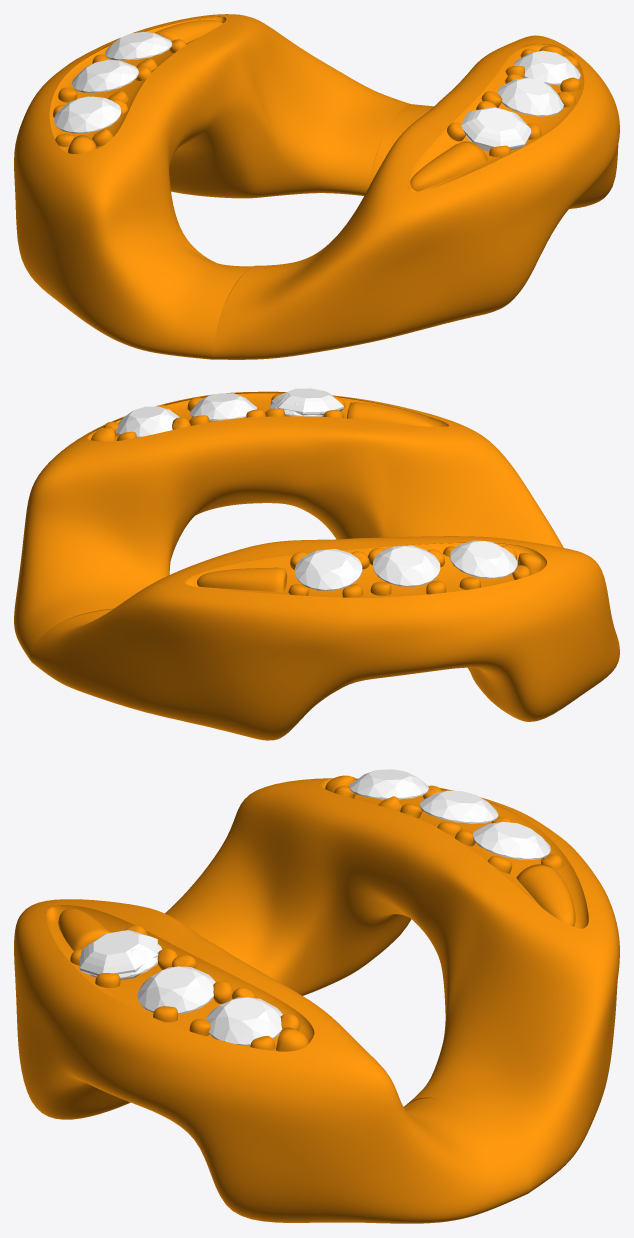
3 renders of one model, top to bottom at view 1: azimuth 30°, elevation 25°; view 2: azimuth 150°, elevation 25°; view 3: azimuth 270°, elevation 25°, orthographic. The views are drawn at different scales.
Parts seen in each view (by area): view 1: sm_cubanLink_gold_a1, sm_cubanLink_gold_b1, Diamond_Octagon.007, Cube.013, Diamond_Octagon.001, file2.004, Diamond_Octagon.002, file2.005, Diamond_Octagon.003, Cube; view 2: sm_cubanLink_gold_a1, sm_cubanLink_gold_b1, Diamond_Octagon.003, Diamond_Octagon.002, Cube, Diamond_Octagon.001, Cube.013, Diamond_Octagon.007, file2.005, file2.004; view 3: sm_cubanLink_gold_a1, sm_cubanLink_gold_b1, file2.005, file2.004, Diamond_Octagon.007, Cube, Diamond_Octagon.003, Cube.013, Diamond_Octagon.002, Diamond_Octagon.001.
Boxes of the visible parts, x1,y1,x2,y2 form: sm_cubanLink_gold_a1: (14, 14, 410, 359); sm_cubanLink_gold_b1: (212, 35, 619, 359); Diamond_Octagon.007: (461, 107, 531, 151); Cube.013: (410, 45, 564, 191); Diamond_Octagon.001: (54, 96, 121, 133); file2.004: (497, 78, 563, 116); Diamond_Octagon.002: (72, 60, 138, 92); file2.005: (513, 50, 580, 85); Diamond_Octagon.003: (105, 31, 172, 60); Cube: (68, 20, 223, 153); sm_cubanLink_gold_a1: (30, 536, 619, 740); sm_cubanLink_gold_b1: (14, 391, 563, 660); Diamond_Octagon.003: (294, 549, 362, 590); Diamond_Octagon.002: (372, 545, 440, 586); Cube: (197, 553, 542, 592); Diamond_Octagon.001: (450, 540, 517, 578); Cube.013: (91, 402, 434, 441); Diamond_Octagon.007: (271, 388, 343, 416); file2.005: (116, 406, 179, 437); file2.004: (190, 393, 256, 421); sm_cubanLink_gold_a1: (165, 778, 619, 1191); sm_cubanLink_gold_b1: (14, 899, 531, 1223); file2.005: (206, 997, 282, 1045); file2.004: (137, 966, 215, 1014); Diamond_Octagon.007: (79, 930, 157, 979); Cube: (325, 775, 575, 926); Diamond_Octagon.003: (472, 821, 550, 859); Cube.013: (58, 908, 308, 1051); Diamond_Octagon.002: (419, 790, 498, 823); Diamond_Octagon.001: (349, 769, 428, 799).
Bounding box in the file's own units: 0.1927 × 0.0603 × 0.1591.
